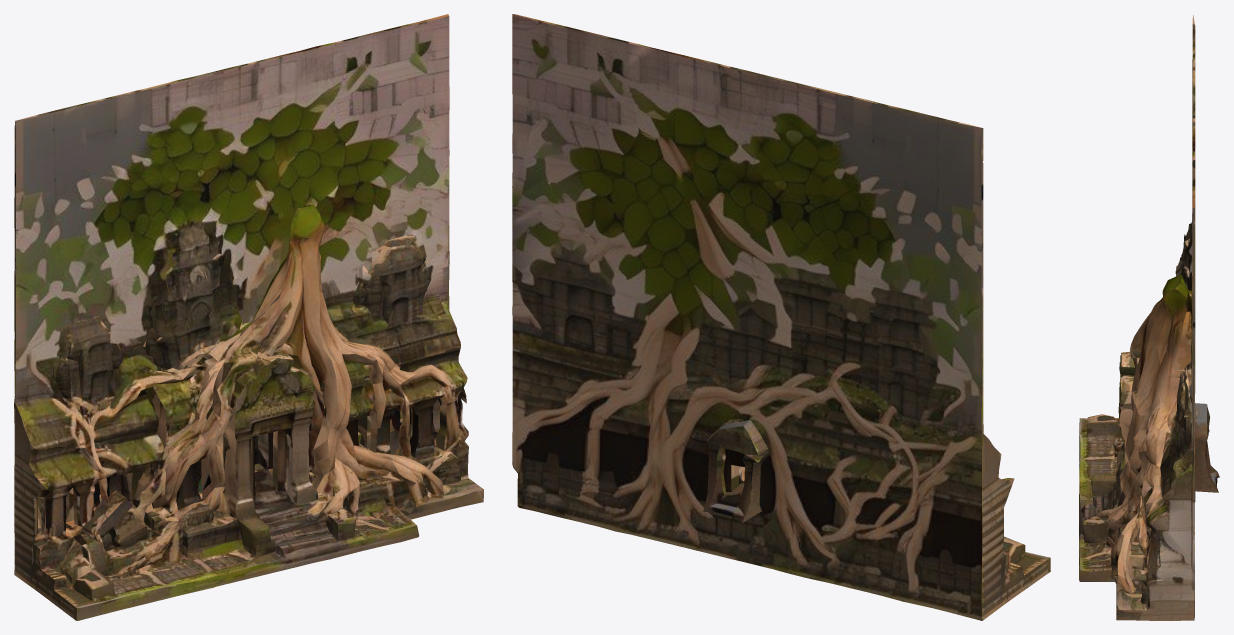
The model's file is ta-prohm.glb.
3 views of the same model, side by side, from view 1: azimuth 30°, elevation 25°; view 2: azimuth 150°, elevation 25°; view 3: azimuth 270°, elevation 25° (orthographic). The views are drawn at different scales.
Parts seen in each view (by area): view 1: logan-textured.obj; view 2: logan-textured.obj; view 3: logan-textured.obj.
Boxes of the visible parts, x1=… form: logan-textured.obj: x1=14, y1=14, x2=483, y2=620; logan-textured.obj: x1=512, y1=14, x2=1050, y2=620; logan-textured.obj: x1=1079, y1=15, x2=1219, y2=620.
Bounding box in the file's own units: 1 × 0.9997 × 0.3068.
1 material, 1 textured.
